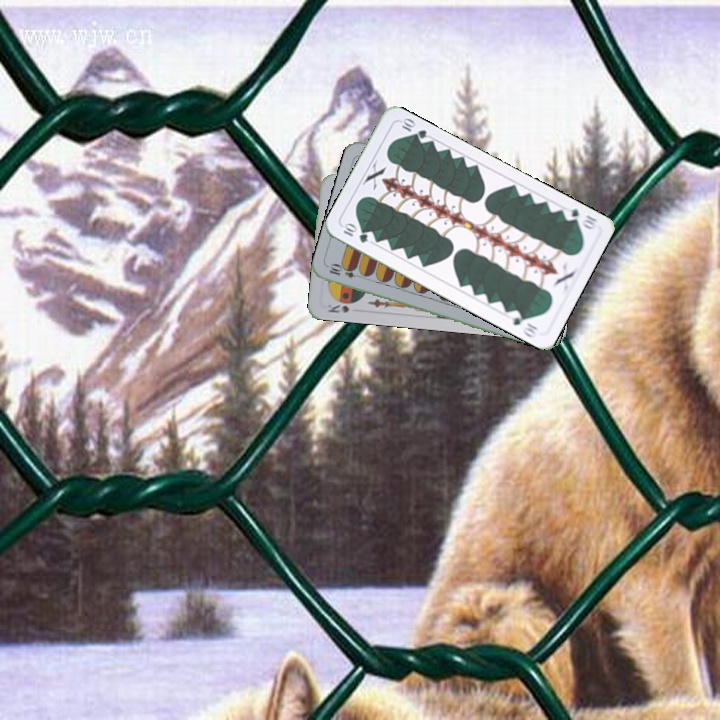E10: (325, 261, 366, 281)
G10: (559, 203, 601, 233), (339, 219, 370, 246)
SK: (322, 300, 352, 315)
